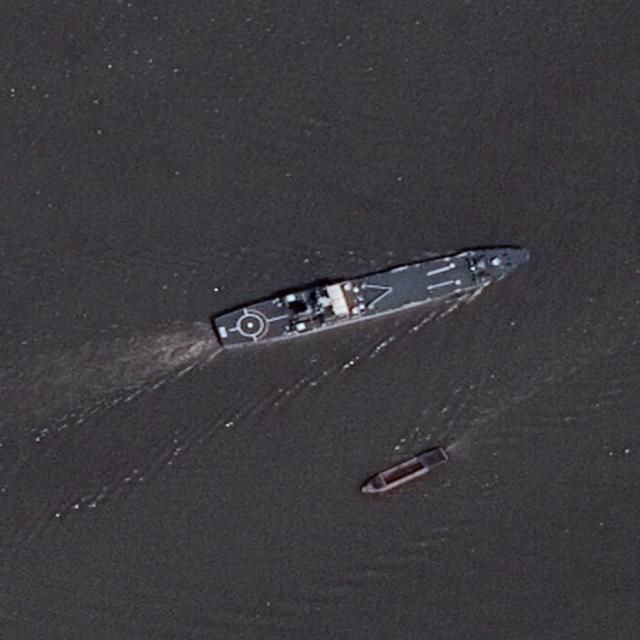Cargo: (357, 446, 451, 502)
Landing: (215, 237, 539, 352)
